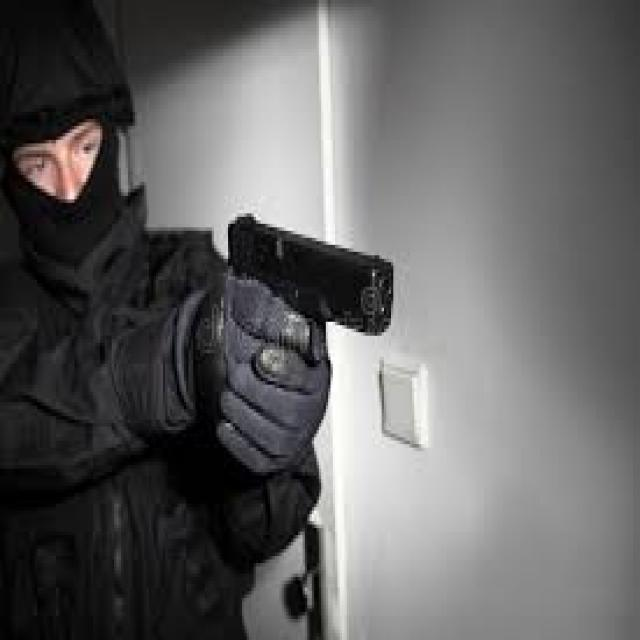soldier: (1, 1, 427, 640)
